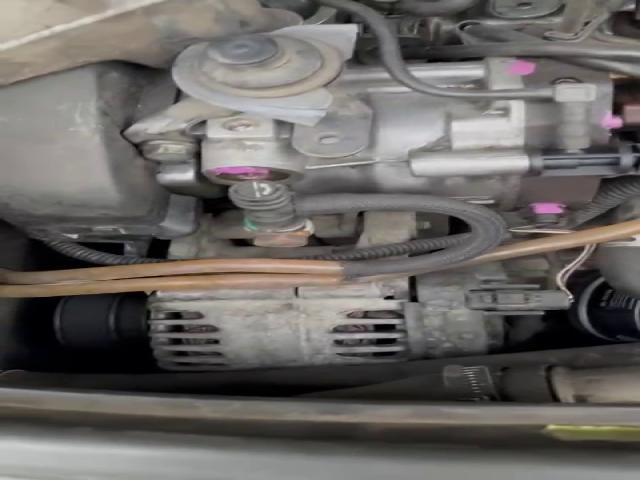alternator: (143, 262, 572, 373)
high_pressure_pump: (199, 55, 638, 226)
